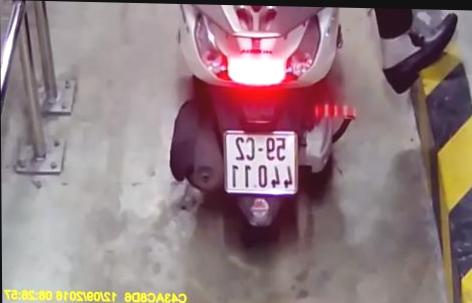License_Plate: (220, 129, 302, 198)
